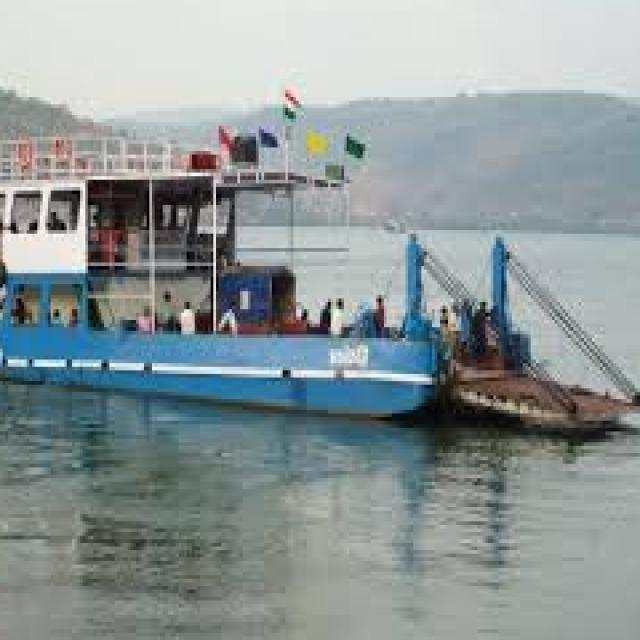fishing boat: (0, 76, 587, 417)
